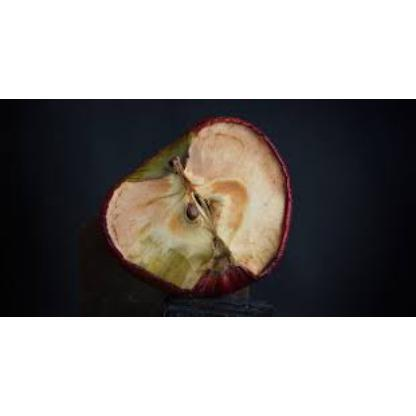damaged_apple: (104, 117, 286, 291)
